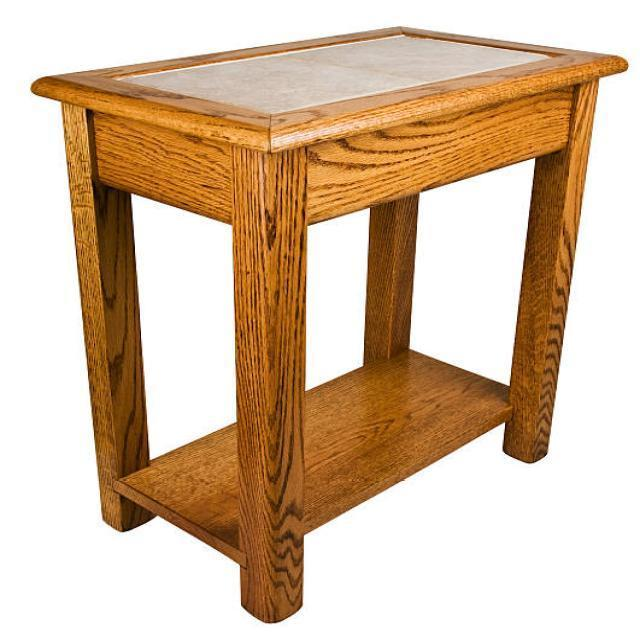table: (29, 24, 628, 623)
